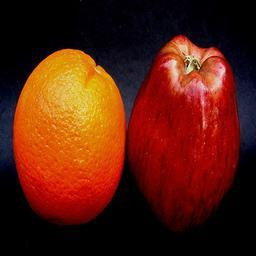apple: (128, 35, 240, 235)
